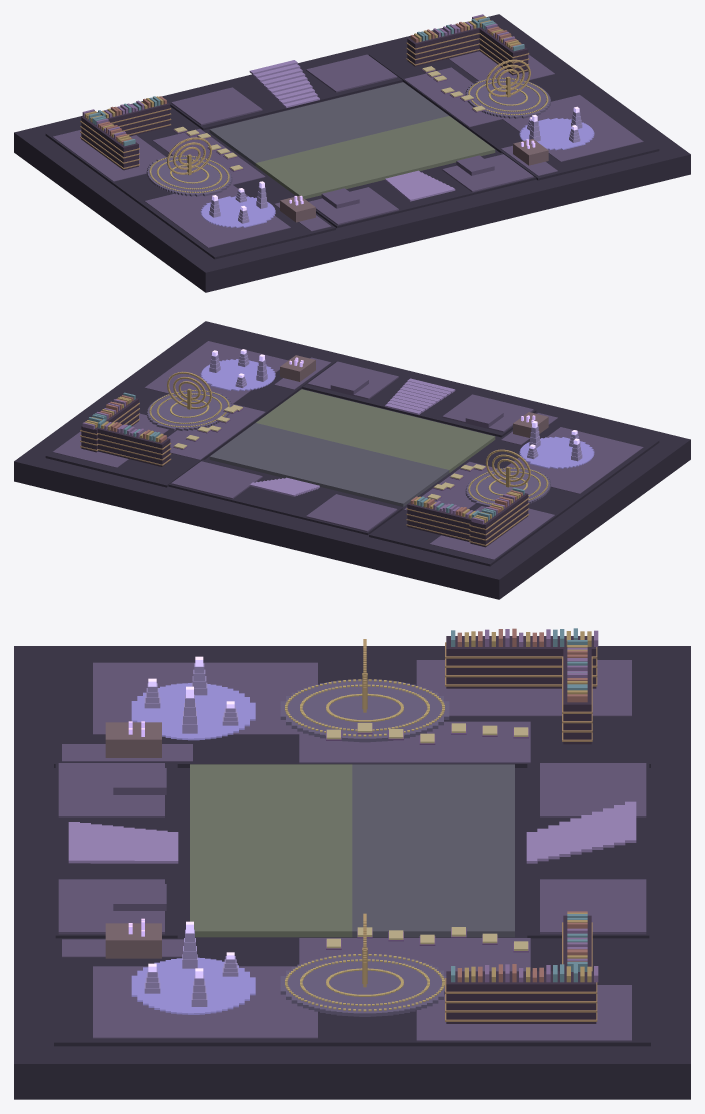
File: preview-arcane.glb
The picture shows the model from 3 angles, top to bottom: view 1: azimuth 30°, elevation 25°; view 2: azimuth 150°, elevation 25°; view 3: azimuth 270°, elevation 25°; orthographic projection. The views are drawn at different scales.
Parts seen in each view (by area): view 1: Miniature_Plinth, Miniature_Original_Board, Miniature_Approach_Flanking_Terraces, Miniature_Landscape_Terrain_Fields, Miniature_East_Landscape_Terrain_Fields, Miniature_East_Landscape_Terrain_Base, Miniature_Landscape_Terrain_Base, Miniature_Approach_Terrain, Miniature_Approach_Entry_Stair, Miniature_East_Landscape_Library_Carcass, Miniature_Landscape_Library_Carcass, Miniature_Landscape_Observatory_Dais (+16 smaller); view 2: Miniature_Plinth, Miniature_Original_Board, Miniature_Approach_Flanking_Terraces, Miniature_Landscape_Terrain_Fields, Miniature_East_Landscape_Terrain_Fields, Miniature_Landscape_Terrain_Base, Miniature_East_Landscape_Terrain_Base, Miniature_Approach_Terrain, Miniature_Landscape_Library_Carcass, Miniature_East_Landscape_Library_Carcass, Miniature_Approach_Entry_Stair, Miniature_East_Landscape_Observatory_Dais (+16 smaller); view 3: Miniature_Plinth, Miniature_Original_Board, Miniature_Landscape_Terrain_Fields, Miniature_East_Landscape_Terrain_Fields, Miniature_Approach_Flanking_Terraces, Miniature_East_Landscape_Terrain_Base, Miniature_Landscape_Terrain_Base, Miniature_Approach_Terrain, Miniature_Approach_Entry_Stair, Miniature_East_Landscape_Observatory_Dais, Miniature_Landscape_Observatory_Dais, Miniature_Landscape_Library_Carcass (+16 smaller).
Boxes of the visible parts, x1=… form: Miniature_Plinth: x1=14, y1=14, x2=690, y2=292; Miniature_Original_Board: x1=209, y1=82, x2=495, y2=199; Miniature_Approach_Flanking_Terraces: x1=171, y1=54, x2=533, y2=225; Miniature_Landscape_Terrain_Fields: x1=53, y1=129, x2=331, y2=247; Miniature_East_Landscape_Terrain_Fields: x1=404, y1=51, x2=643, y2=176; Miniature_East_Landscape_Terrain_Base: x1=369, y1=45, x2=659, y2=180; Miniature_Landscape_Terrain_Base: x1=45, y1=107, x2=335, y2=259; Miniature_Approach_Terrain: x1=169, y1=56, x2=536, y2=227; Miniature_Approach_Entry_Stair: x1=249, y1=60, x2=455, y2=201; Miniature_East_Landscape_Library_Carcass: x1=407, y1=27, x2=528, y2=75; Miniature_Landscape_Library_Carcass: x1=81, y1=102, x2=170, y2=170; Miniature_Landscape_Observatory_Dais: x1=146, y1=155, x2=232, y2=196; Miniature_Plinth: x1=14, y1=321, x2=690, y2=599; Miniature_Original_Board: x1=209, y1=389, x2=495, y2=506; Miniature_Approach_Flanking_Terraces: x1=171, y1=361, x2=533, y2=532; Miniature_Landscape_Terrain_Fields: x1=404, y1=413, x2=643, y2=559; Miniature_East_Landscape_Terrain_Fields: x1=53, y1=341, x2=331, y2=467; Miniature_Landscape_Terrain_Base: x1=369, y1=411, x2=659, y2=566; Miniature_East_Landscape_Terrain_Base: x1=45, y1=332, x2=335, y2=487; Miniature_Approach_Terrain: x1=168, y1=363, x2=536, y2=534; Miniature_Landscape_Library_Carcass: x1=407, y1=493, x2=528, y2=547; Miniature_East_Landscape_Library_Carcass: x1=81, y1=398, x2=170, y2=466; Miniature_Approach_Entry_Stair: x1=249, y1=378, x2=455, y2=496; Miniature_East_Landscape_Observatory_Dais: x1=146, y1=389, x2=232, y2=430; Miniature_Plinth: x1=14, y1=646, x2=690, y2=1099; Miniature_Original_Board: x1=190, y1=764, x2=514, y2=937; Miniature_Landscape_Terrain_Fields: x1=62, y1=660, x2=631, y2=763; Miniature_East_Landscape_Terrain_Fields: x1=62, y1=938, x2=631, y2=1041; Miniature_Approach_Flanking_Terraces: x1=58, y1=763, x2=646, y2=934; Miniature_East_Landscape_Terrain_Base: x1=54, y1=938, x2=650, y2=1046; Miniature_Landscape_Terrain_Base: x1=54, y1=659, x2=650, y2=767; Miniature_Approach_Terrain: x1=55, y1=764, x2=649, y2=938; Miniature_Approach_Entry_Stair: x1=68, y1=801, x2=636, y2=863; Miniature_East_Landscape_Observatory_Dais: x1=280, y1=954, x2=446, y2=1016; Miniature_Landscape_Observatory_Dais: x1=280, y1=679, x2=449, y2=742; Miniature_Landscape_Library_Carcass: x1=446, y1=636, x2=596, y2=744.
Size of the model in its own units: 7.6 by 0.9164 by 5.2.
